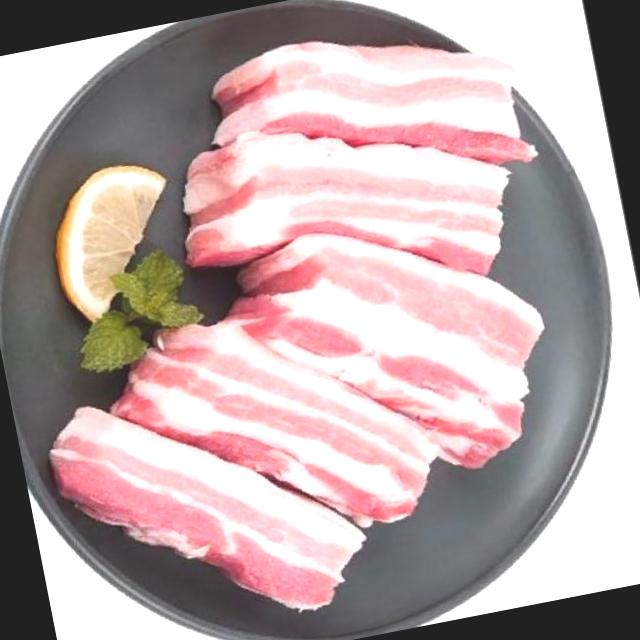pork: (233, 206, 565, 505), (117, 294, 454, 550), (50, 405, 367, 607), (205, 20, 533, 174)
